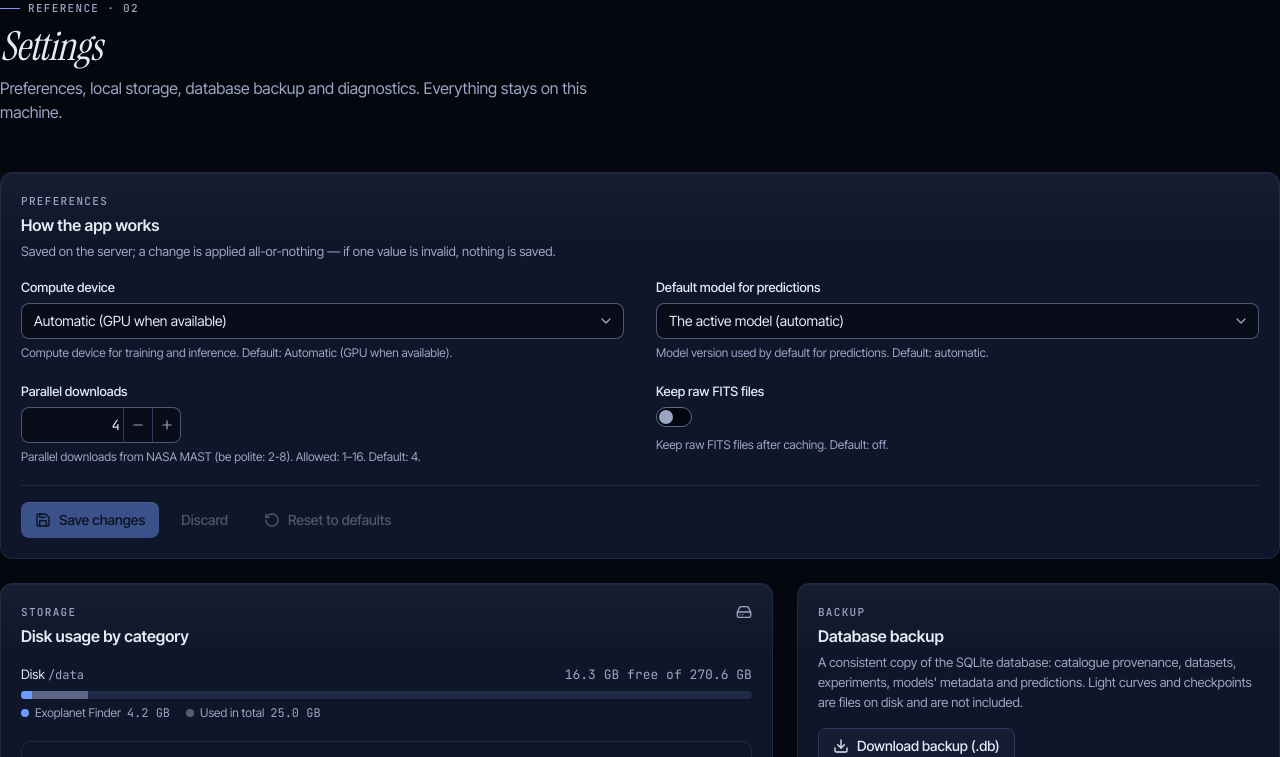
Test case: Settings › validates before saving and shows the server's message on the field
Replace the text in the number field labelled "Parallel downloads" with "40" at coordinates (101, 425), box [21,407,181,443]
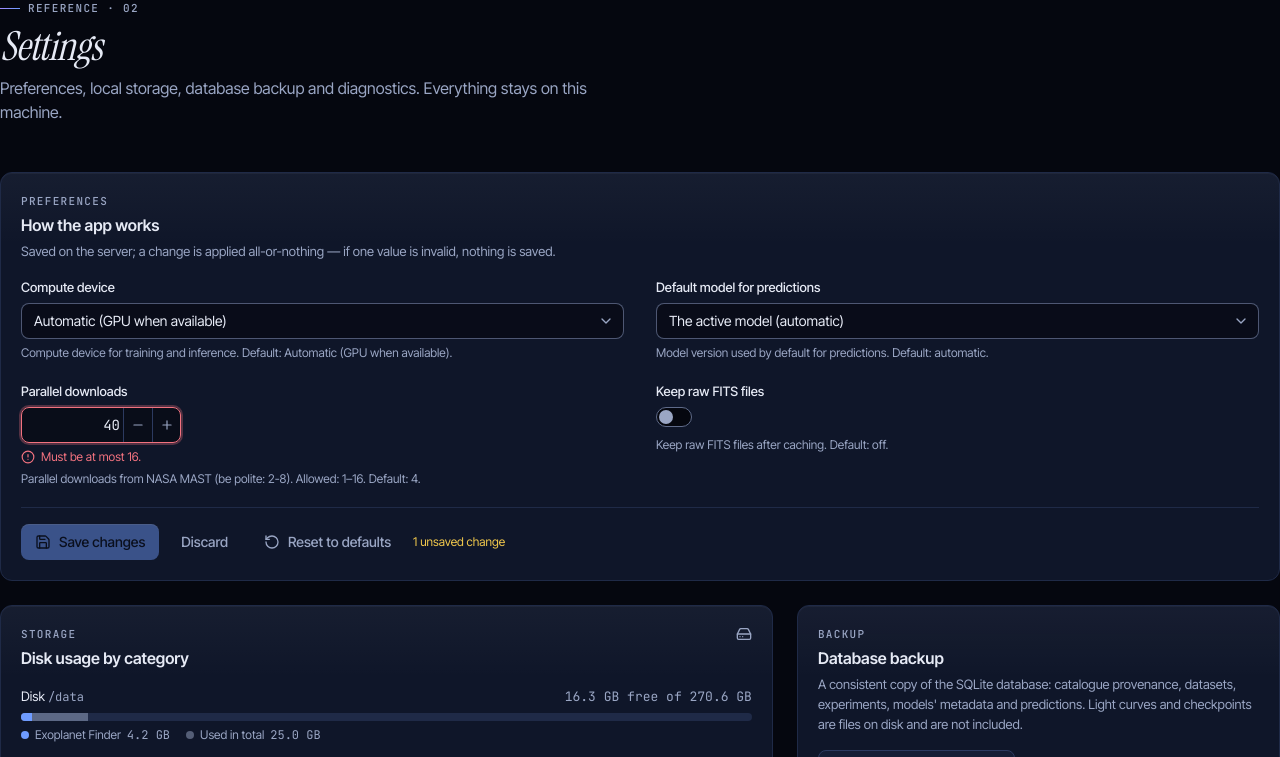
Press Tab
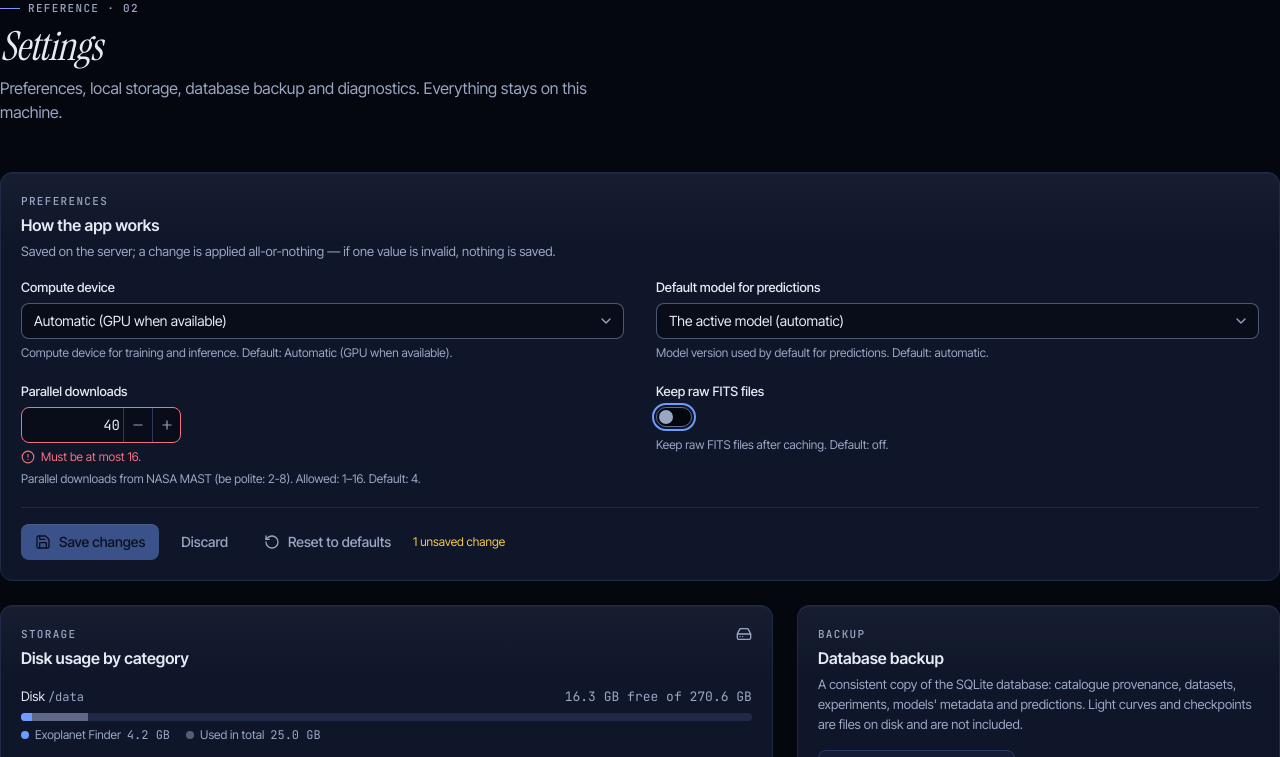
Expected: the button "Save changes" is disabled, [21,524,159,560]
Now the text "Must be at most 16." is shown, box [41,449,141,465]
Replace the text in the number field labelled "Parallel downloads" with "4" at coordinates (101, 425), box [21,407,181,443]
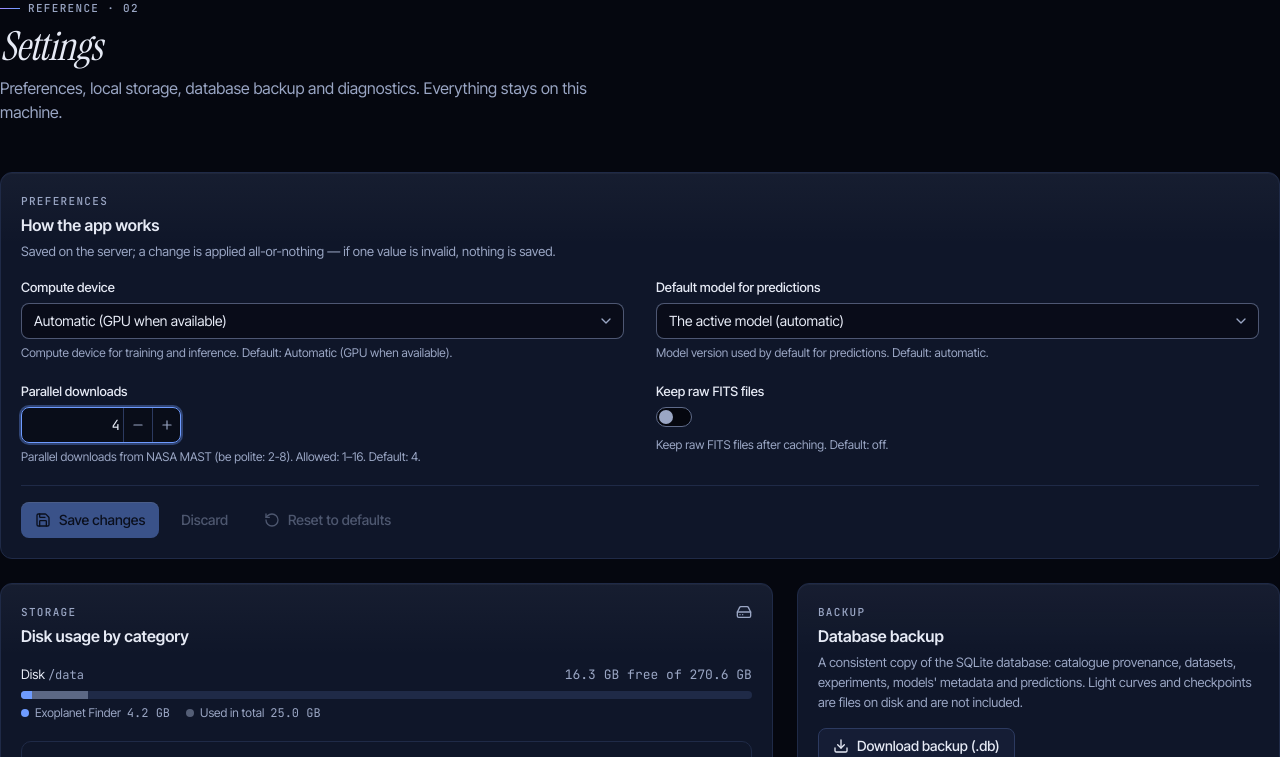
Select "NVIDIA GPU (CUDA)" in the dropdown labelled "Compute device" at coordinates (322, 321), box [21,303,624,339]
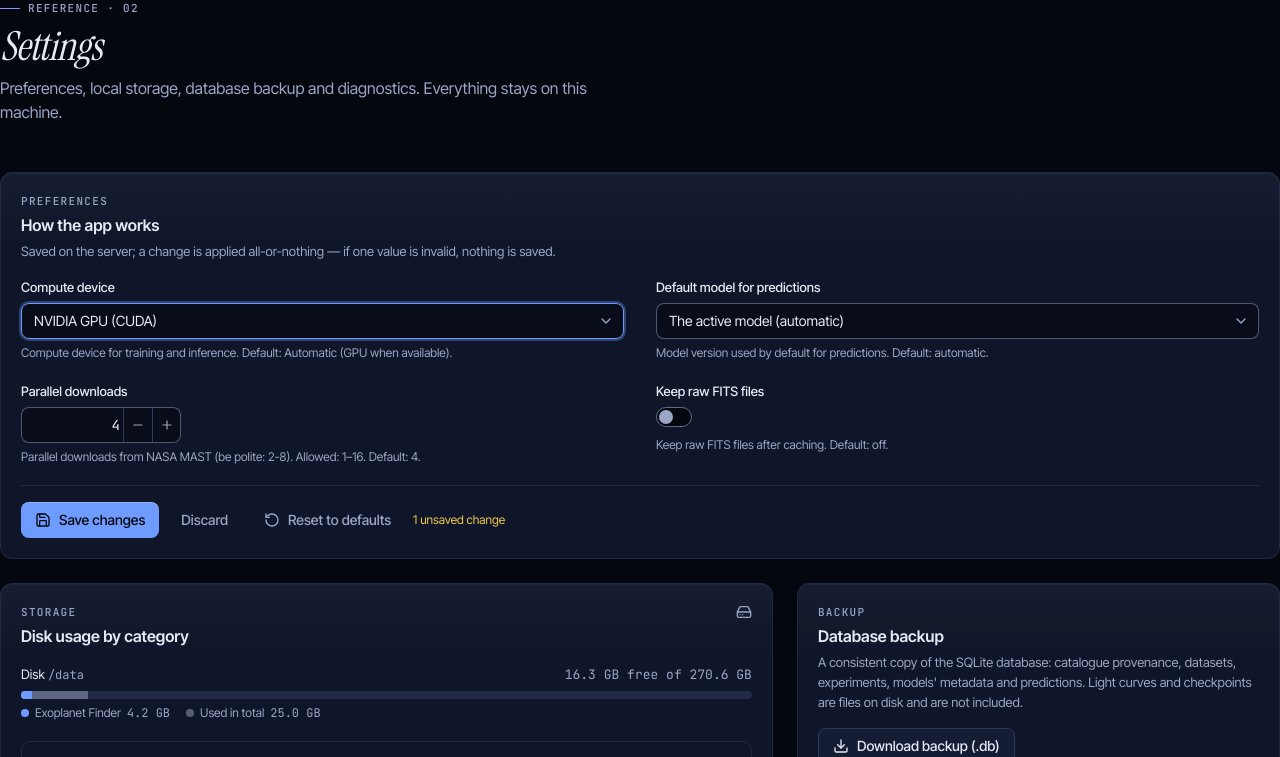
Click the button "Save changes" at coordinates (90, 520), box [21,502,159,538]
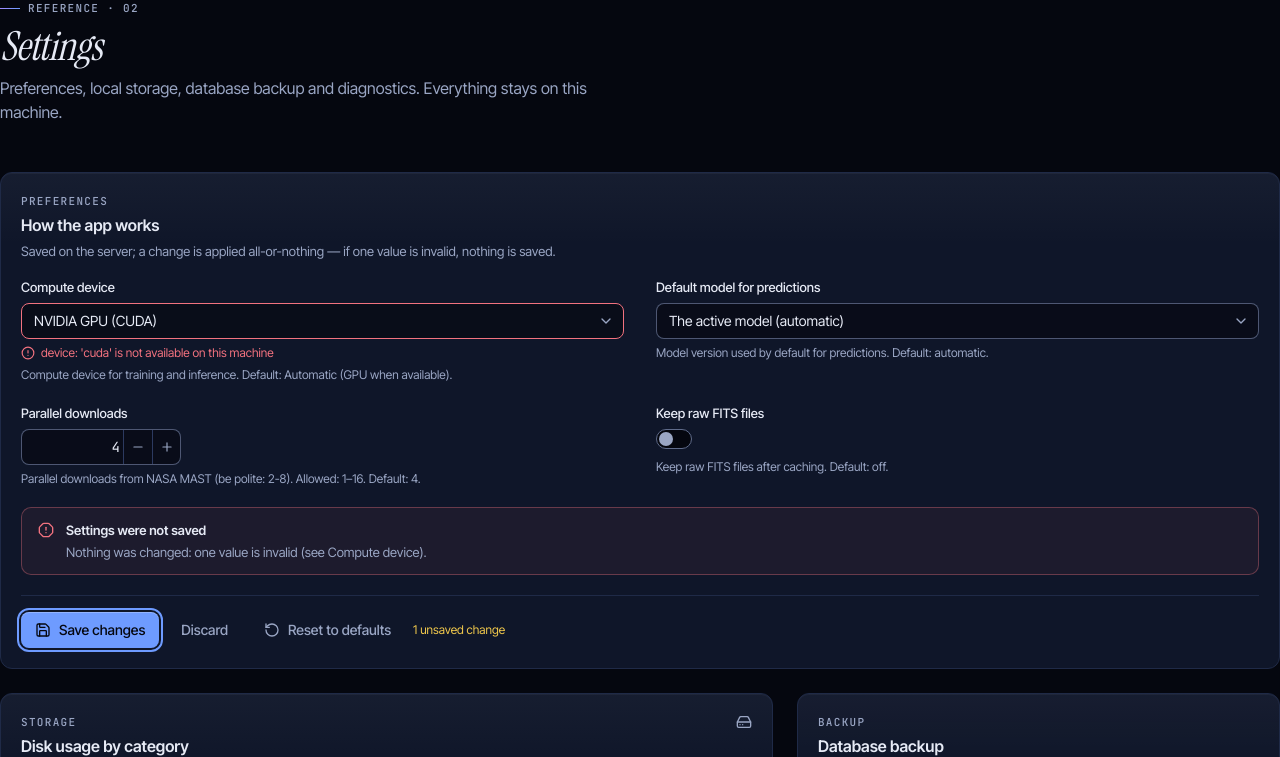
Now the text "device: 'cuda' is not available on this machine" is shown, box [41,345,274,361]
Now the text "Settings were not saved" is shown, box [66,522,206,538]
